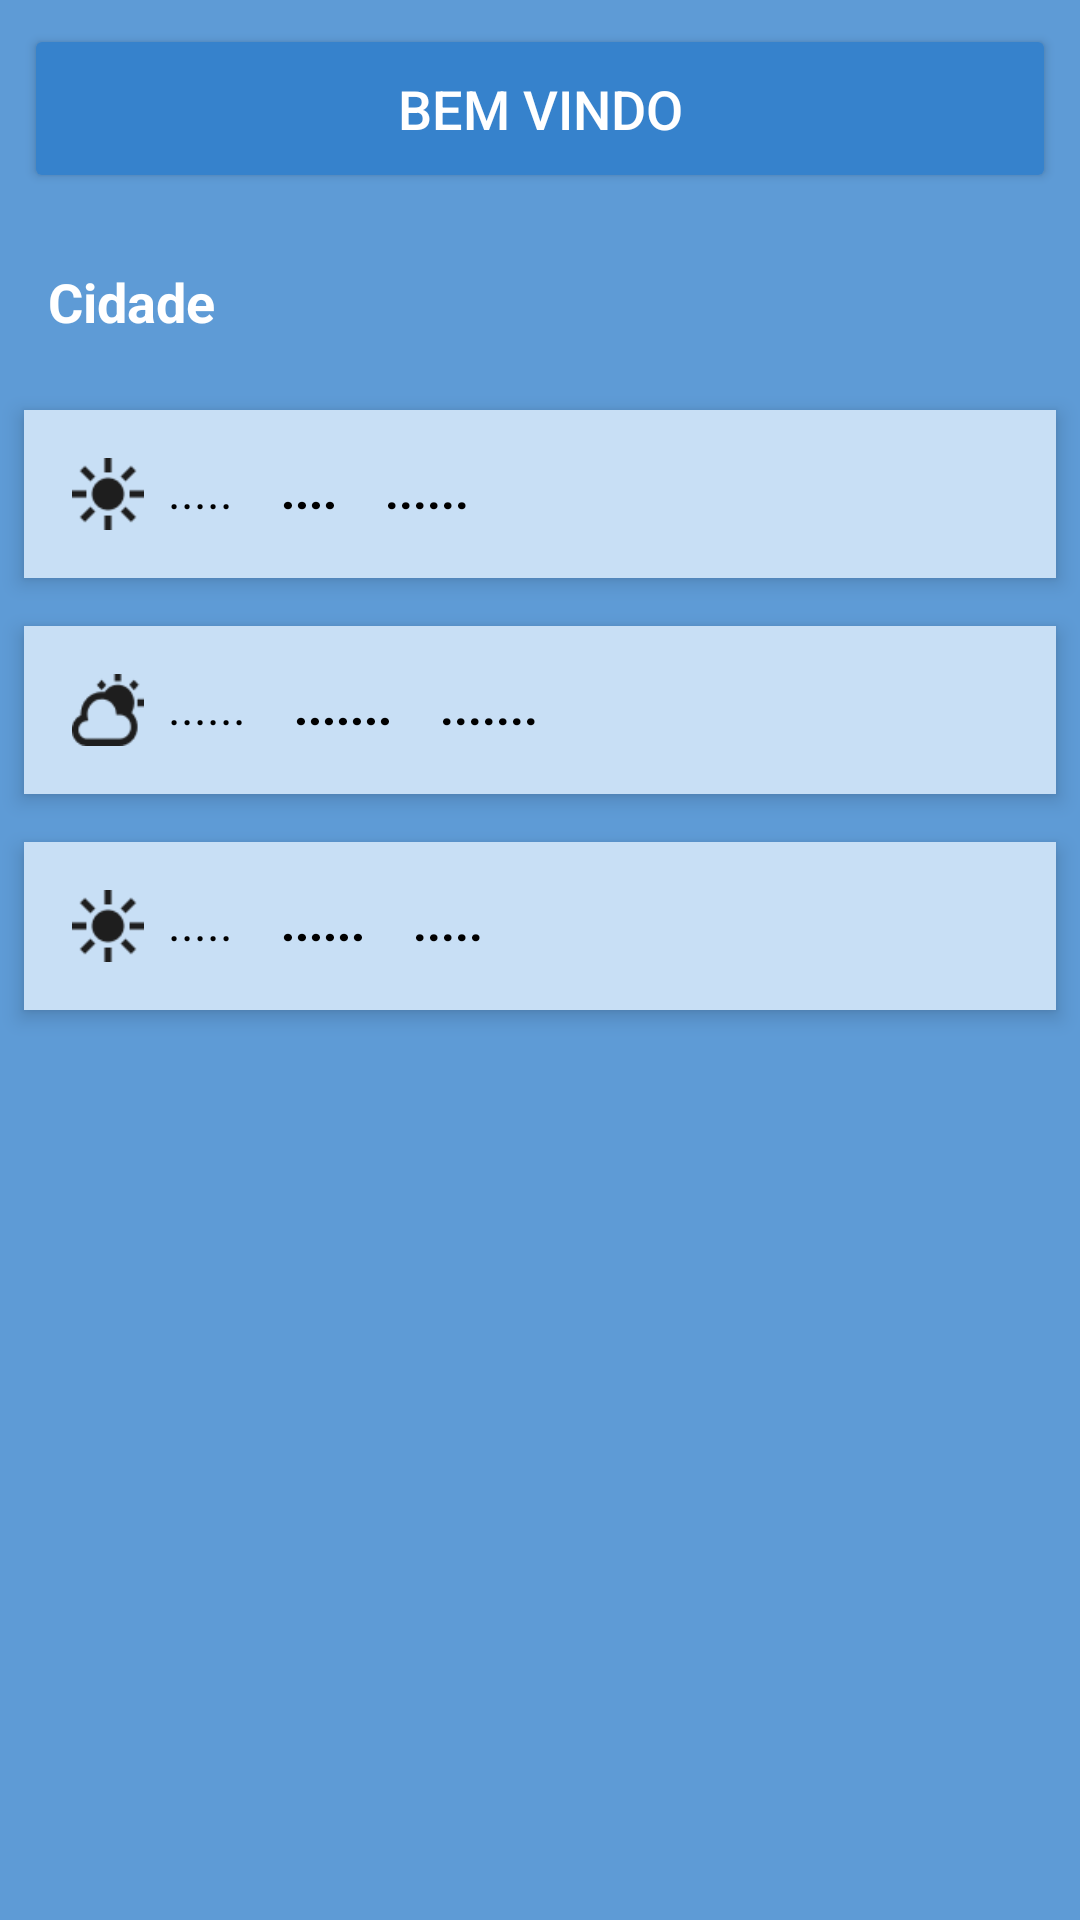

Point at icon controls on the screen. Image size 1080w x 1920h, points as [x,y].
Nublado: [108,710]
sol: [108,494]
